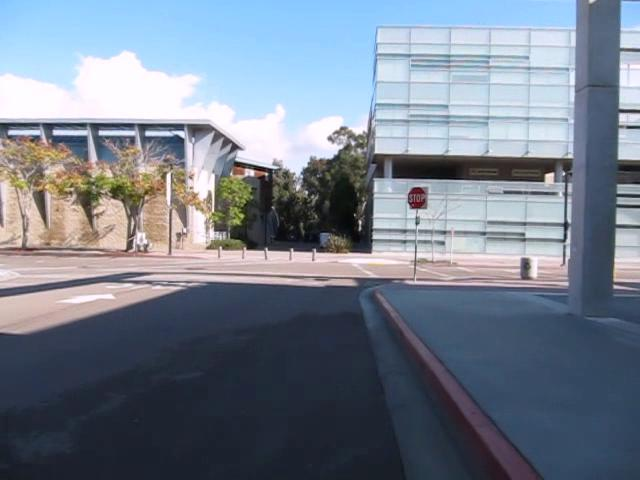stop: (407, 186, 427, 210)
